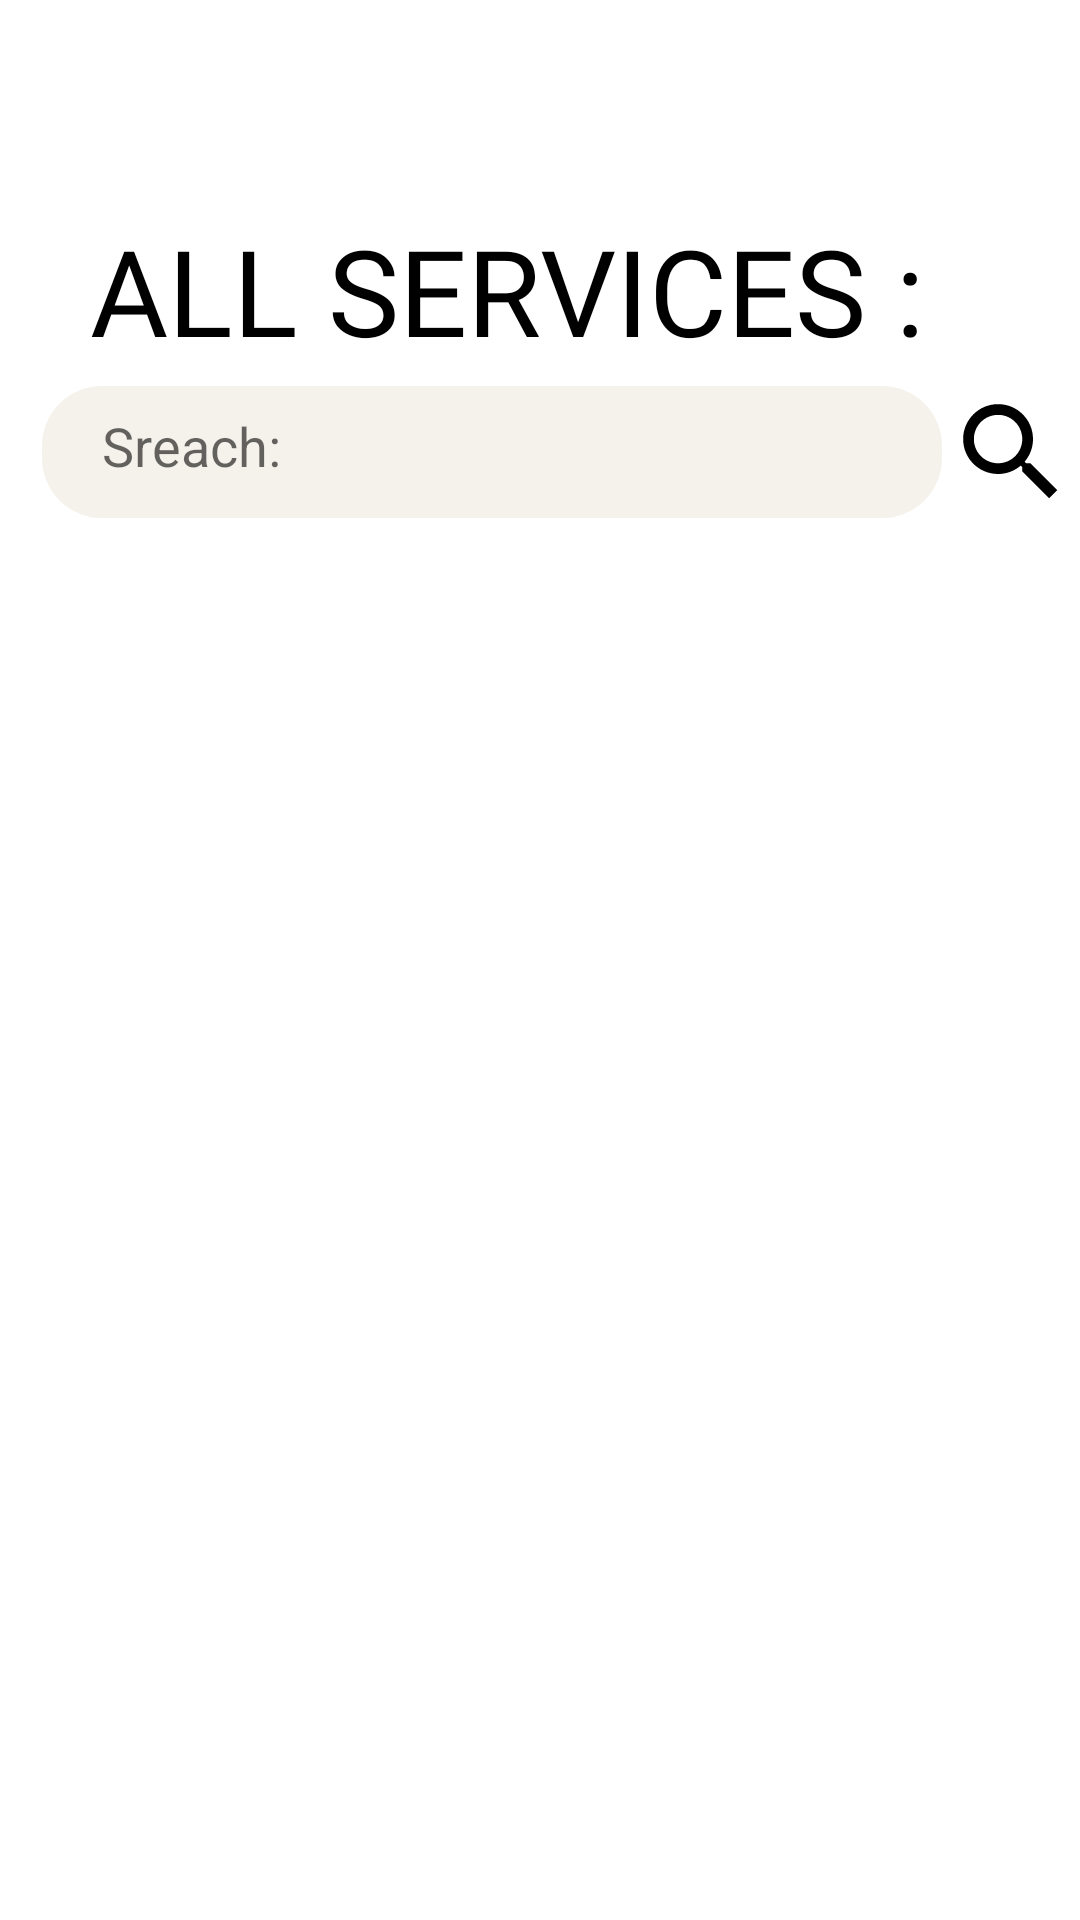

Icon click points for this 1080px x 1920px phone screenshot, format (x,y):
search: (1010,451)
